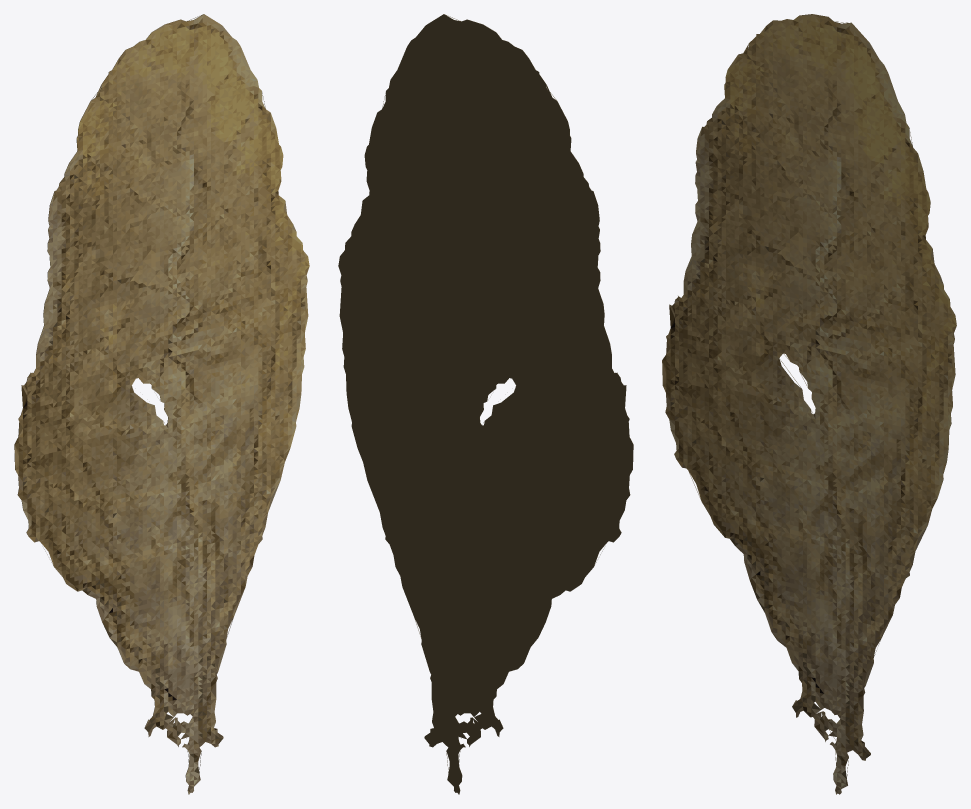
Rendered from 20260911_160934598_iOS.obj.
3 renders of one model, left to right at view 1: azimuth 30°, elevation 25°; view 2: azimuth 150°, elevation 25°; view 3: azimuth 330°, elevation 25°, orthographic.
Parts seen in each view (by area): view 1: 20260911_160934598_iOS; view 2: 20260911_160934598_iOS; view 3: 20260911_160934598_iOS.
Boxes of the visible parts, x1,y1,x2,y2 form: 20260911_160934598_iOS: [14, 14, 309, 794]; 20260911_160934598_iOS: [338, 14, 633, 794]; 20260911_160934598_iOS: [662, 14, 956, 794].
Bounding box in the file's own units: 207 × 521 × 0.3.
